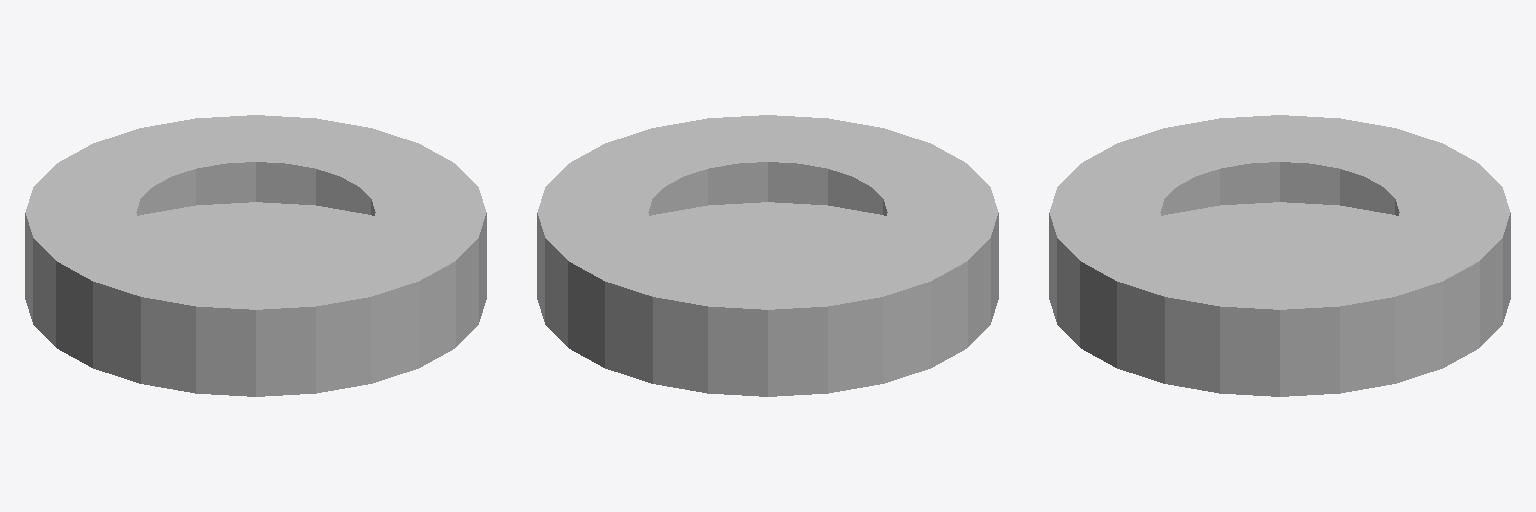
The model's file is fanbase2.obj.
3 renders of one model, left to right at view 1: azimuth 30°, elevation 25°; view 2: azimuth 150°, elevation 25°; view 3: azimuth 270°, elevation 25°, orthographic.
Visible parts, largest first — view 1: group_0.002_ID18; view 2: group_0.002_ID18; view 3: group_0.002_ID18.
Boxes of the visible parts, <box> form: group_0.002_ID18: <box>25,115,486,396</box>; group_0.002_ID18: <box>537,115,998,396</box>; group_0.002_ID18: <box>1049,115,1510,396</box>.
Bounding box in the file's own units: 0.0477 × 0.0099 × 0.0477.